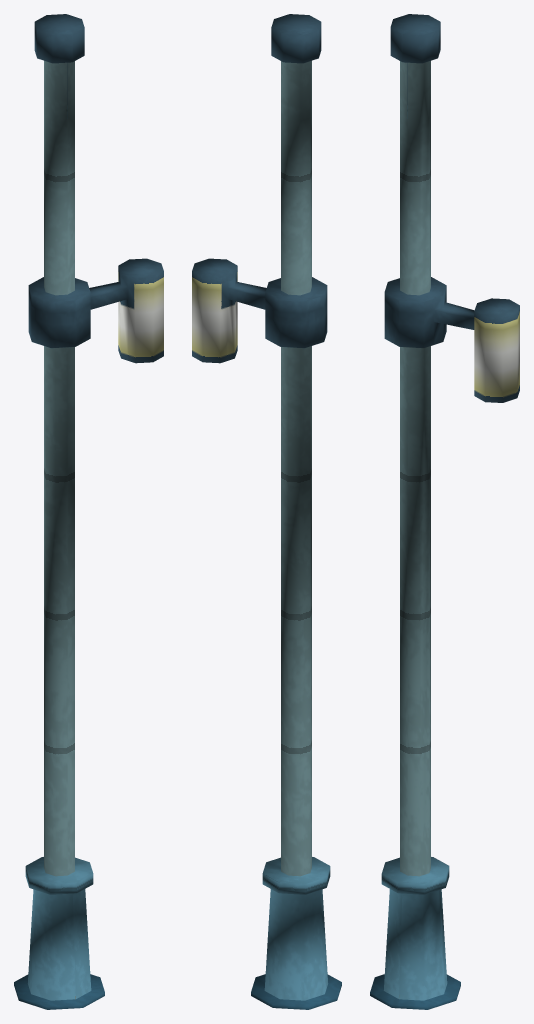
Rendered from lamp.glb.
3 renders of one model, left to right at view 1: azimuth 30°, elevation 25°; view 2: azimuth 150°, elevation 25°; view 3: azimuth 330°, elevation 25°, orthographic.
Visible parts, largest first — view 1: Circle; view 2: Circle; view 3: Circle.
Part boxes in pixels (bbox=[...]): Circle: bbox=[14, 14, 163, 1009]; Circle: bbox=[192, 14, 341, 1009]; Circle: bbox=[370, 14, 519, 1009].
Bounding box in the file's own units: 1.91 × 12.37 × 1.09.
Materials: 1 (1 with a texture image).
